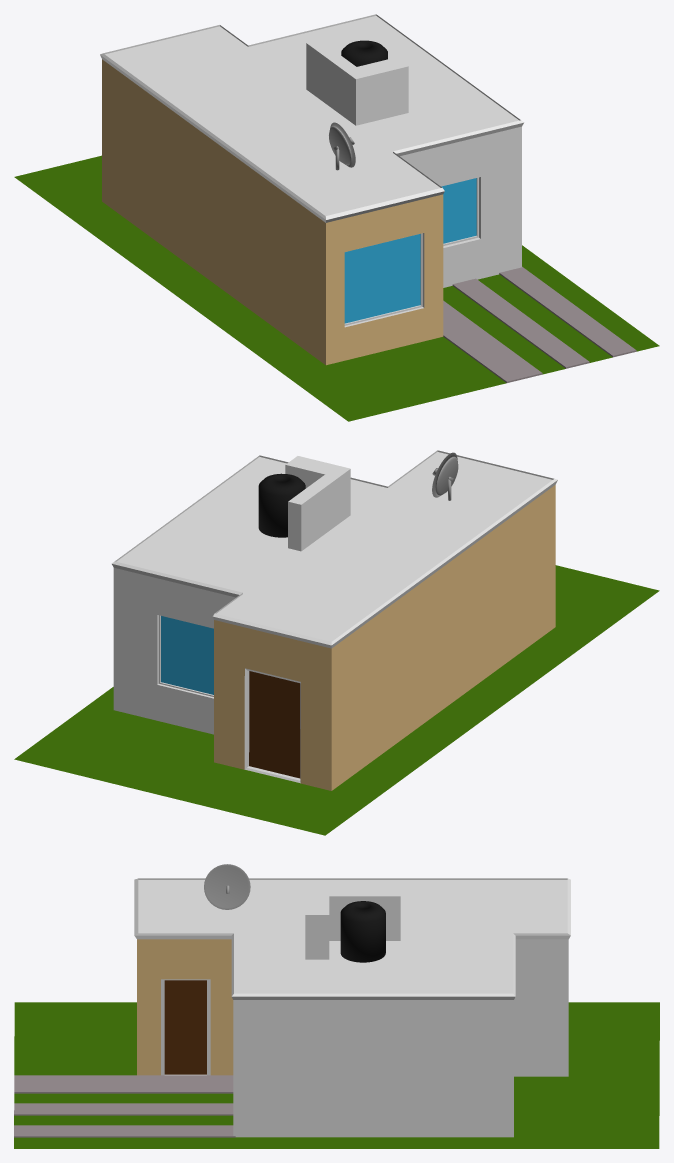
File: casa_0.glb
The picture shows the model from 3 angles, top to bottom: view 1: azimuth 30°, elevation 25°; view 2: azimuth 150°, elevation 25°; view 3: azimuth 270°, elevation 25°; orthographic projection. The views are drawn at different scales.
Visible parts, largest first — view 1: Casa_Infonavit_mod_0, Terreno_Infonativ_mod_0, Rotoplas_CI_0, Antena_Mod; view 2: Casa_Infonavit_mod_0, Terreno_Infonativ_mod_0, Rotoplas_CI_0, Antena_Mod; view 3: Casa_Infonavit_mod_0, Terreno_Infonativ_mod_0, Rotoplas_CI_0, Antena_Mod.
Boxes of the visible parts, <box> form: Casa_Infonavit_mod_0: <box>100,14,524,365</box>; Terreno_Infonativ_mod_0: <box>14,155,659,421</box>; Rotoplas_CI_0: <box>341,40,387,66</box>; Antena_Mod: <box>329,122,355,170</box>; Casa_Infonavit_mod_0: <box>112,450,557,790</box>; Terreno_Infonativ_mod_0: <box>14,565,659,835</box>; Rotoplas_CI_0: <box>258,473,305,537</box>; Antena_Mod: <box>432,452,458,500</box>; Casa_Infonavit_mod_0: <box>134,878,570,1137</box>; Terreno_Infonativ_mod_0: <box>14,1002,659,1148</box>; Rotoplas_CI_0: <box>340,901,385,962</box>; Antena_Mod: <box>204,864,250,909</box>.
Bounding box in the file's own units: 4.56 × 2.75 × 8.49.
